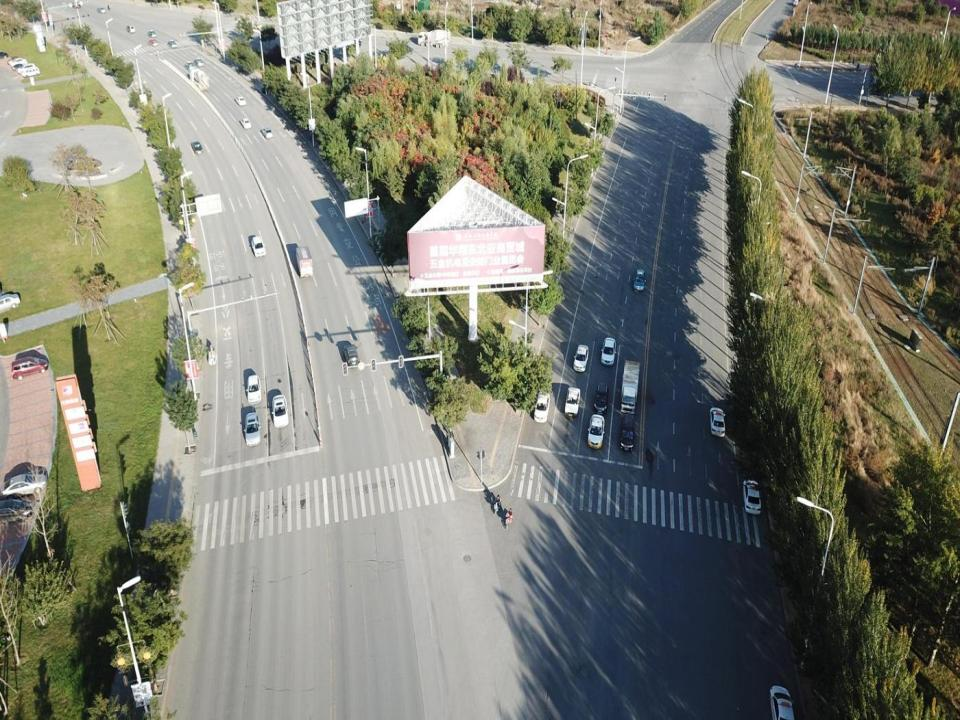car: (0, 471, 47, 502), (768, 684, 795, 719), (0, 497, 32, 525), (744, 479, 760, 516), (273, 393, 289, 428), (708, 408, 726, 439), (619, 413, 634, 449), (588, 415, 604, 448), (244, 411, 259, 446), (534, 390, 550, 421), (574, 344, 590, 374), (566, 387, 582, 416), (0, 291, 21, 312), (602, 338, 617, 367), (594, 385, 609, 414), (342, 344, 359, 368), (247, 375, 261, 404), (250, 236, 266, 258), (633, 270, 645, 292), (17, 63, 36, 73), (260, 125, 273, 139), (22, 68, 40, 78), (10, 58, 28, 66), (192, 141, 202, 155), (12, 63, 26, 72), (192, 58, 204, 68), (7, 56, 21, 64), (241, 117, 251, 128), (234, 96, 246, 105), (96, 6, 106, 15), (147, 38, 158, 46), (146, 30, 156, 38), (167, 40, 177, 48), (184, 61, 192, 70), (72, 2, 81, 8)
truck: (621, 358, 639, 414), (415, 29, 450, 48), (185, 68, 210, 92), (296, 245, 312, 278)
van: (11, 356, 47, 378), (125, 25, 136, 34)
